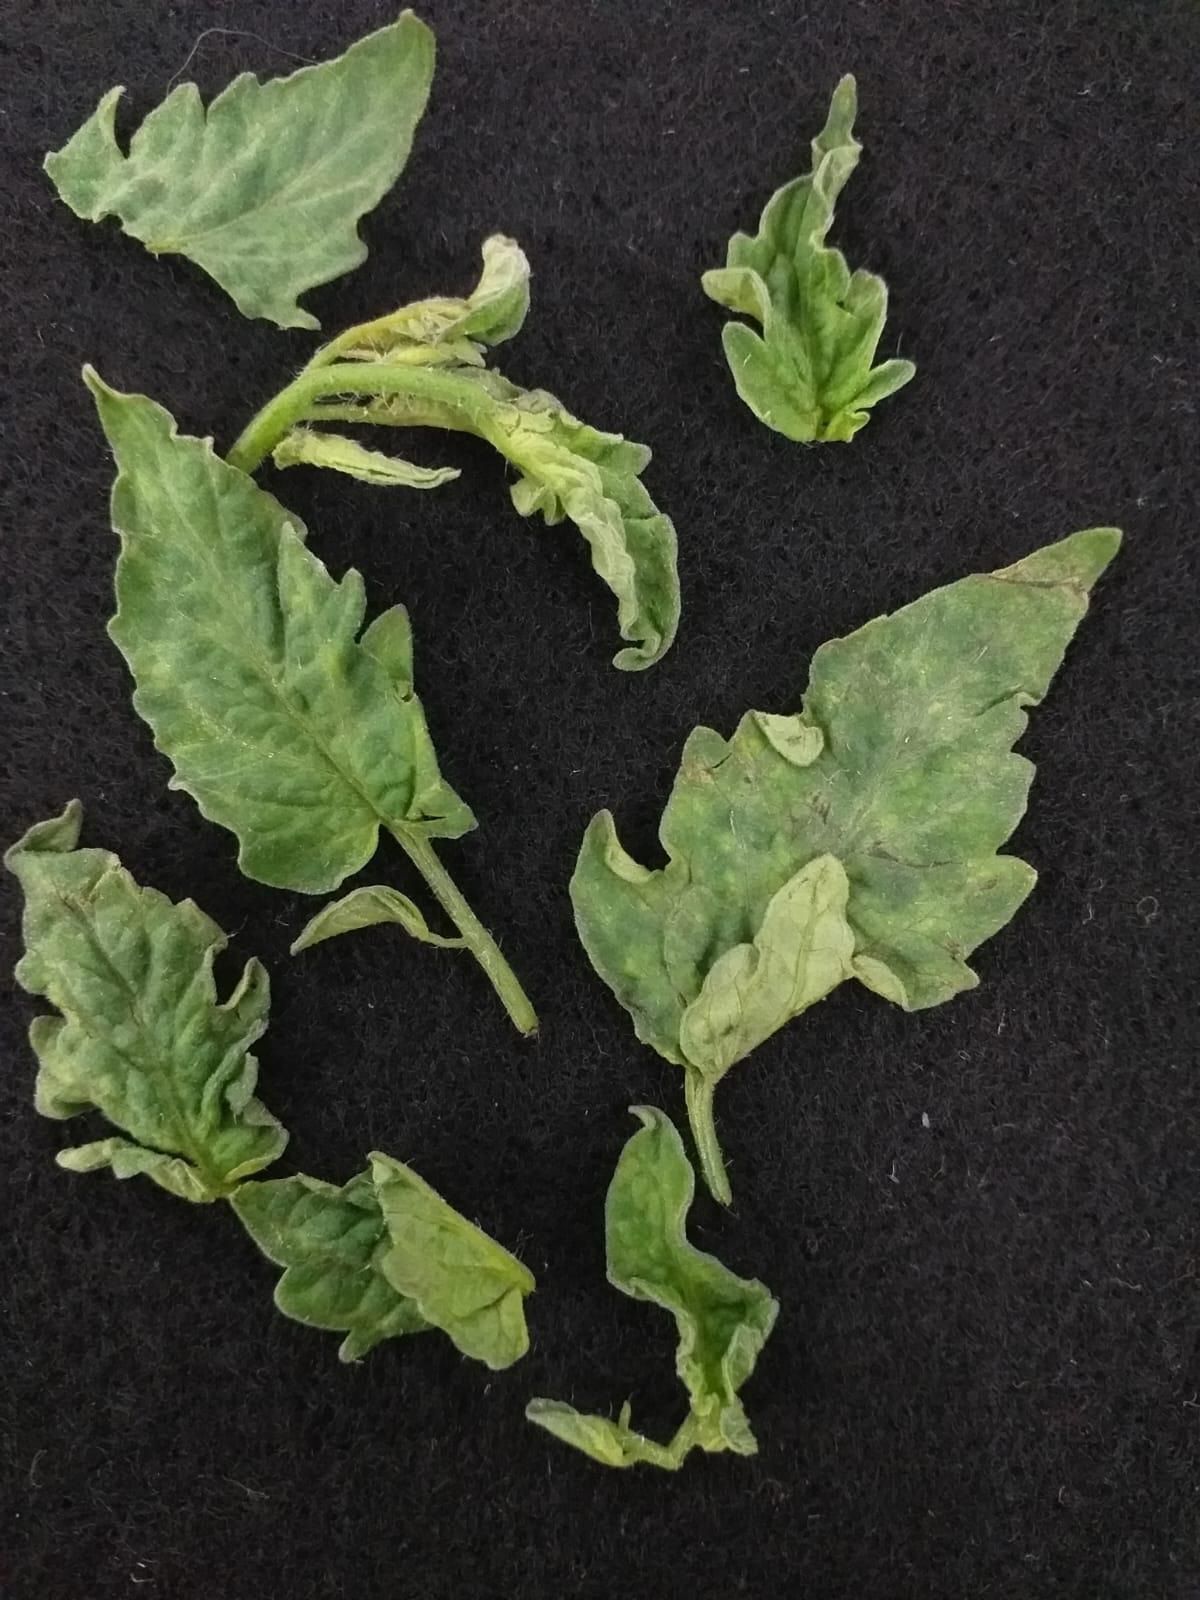Rugose leaf: (575, 529, 1116, 1047), (87, 372, 471, 893), (44, 13, 435, 328), (6, 803, 287, 1203), (703, 76, 915, 441), (606, 1106, 778, 1453), (488, 394, 678, 671), (231, 1172, 425, 1362)
